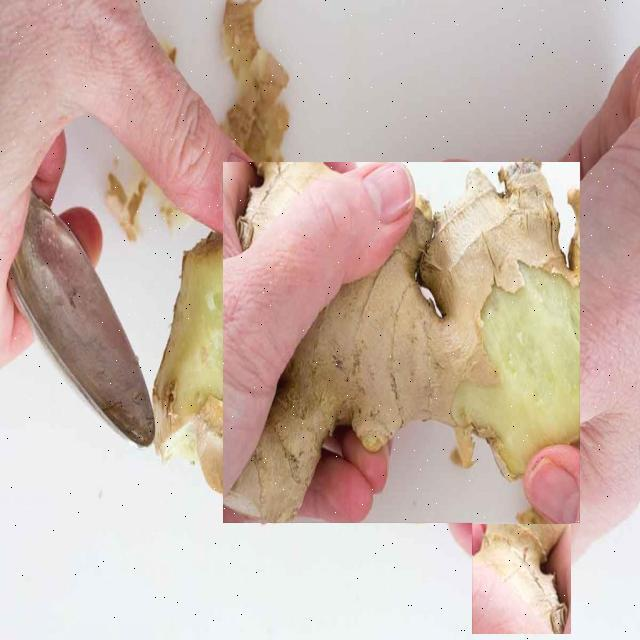ginger: (222, 161, 577, 521), (472, 437, 569, 633)
